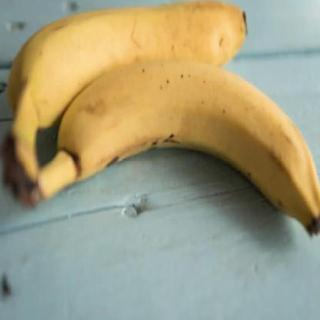banana: (56, 62, 320, 238), (5, 0, 248, 129)
